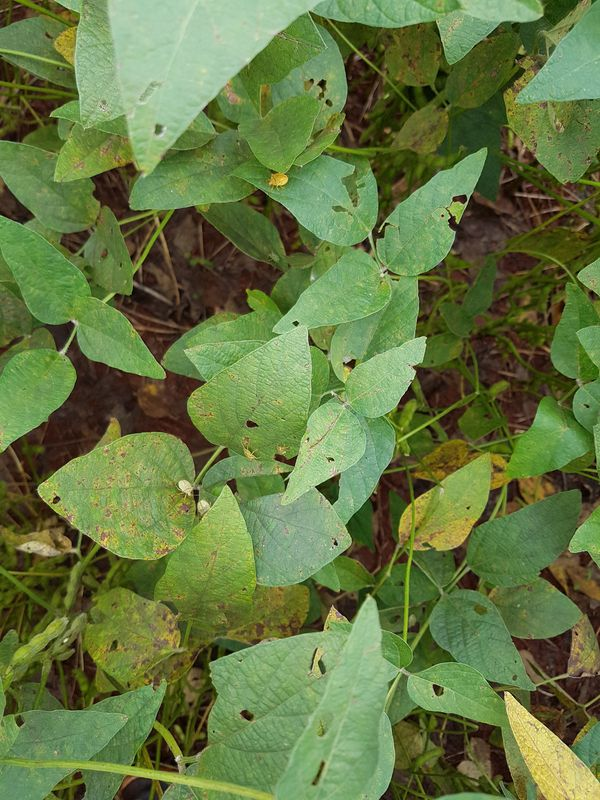Euschistus_heros_ninfa: (262, 168, 293, 195), (171, 476, 197, 501), (192, 496, 217, 521)
